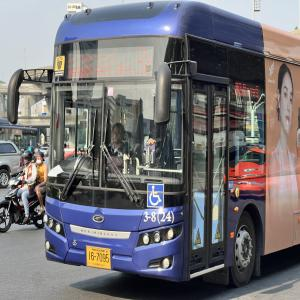Bus Line Number: (131, 42, 159, 76)
Bus Side Number: (142, 210, 174, 226)
Destination Sign: (66, 44, 130, 83)
TSB-Bus: (9, 0, 300, 288)
